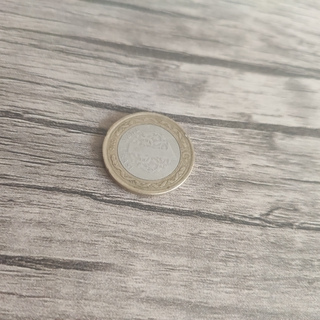1TL: (99, 110, 195, 198)
